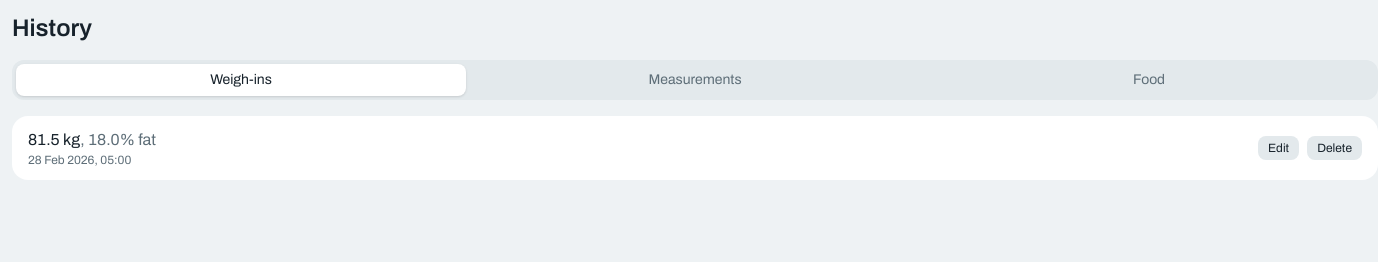
History › lists the last 30 days of food, linking to each day
Click the tab "Food".
click(1149, 80)  # box left=924, top=64, right=1374, bottom=96
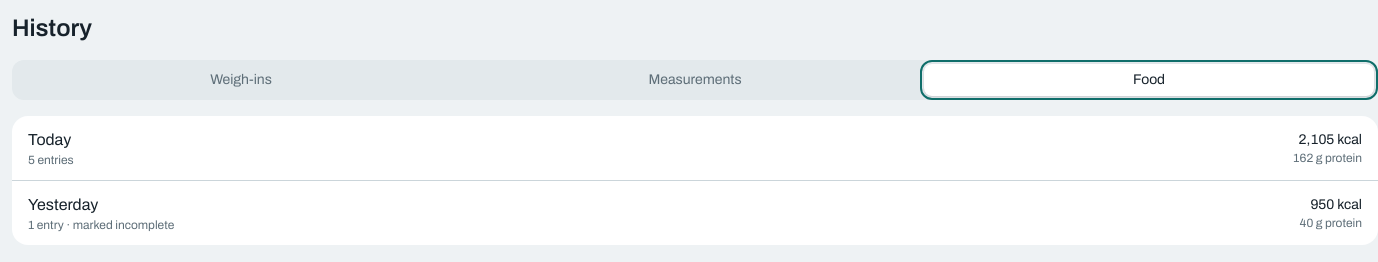
Check: the link "Today 5 entries 2,105 kcal 162 g protein" is shown, box left=28, top=131, right=1362, bottom=167
Check: the link "Yesterday 1 entry · marked incomplete 950 kcal 40 g protein" is shown, box left=28, top=196, right=1362, bottom=232
